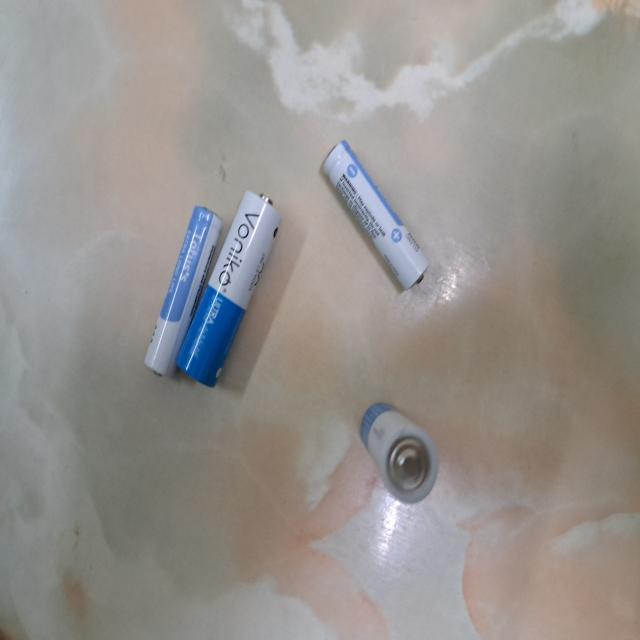battery: (178, 191, 284, 389), (323, 137, 429, 291), (142, 206, 226, 376), (359, 404, 438, 504)
